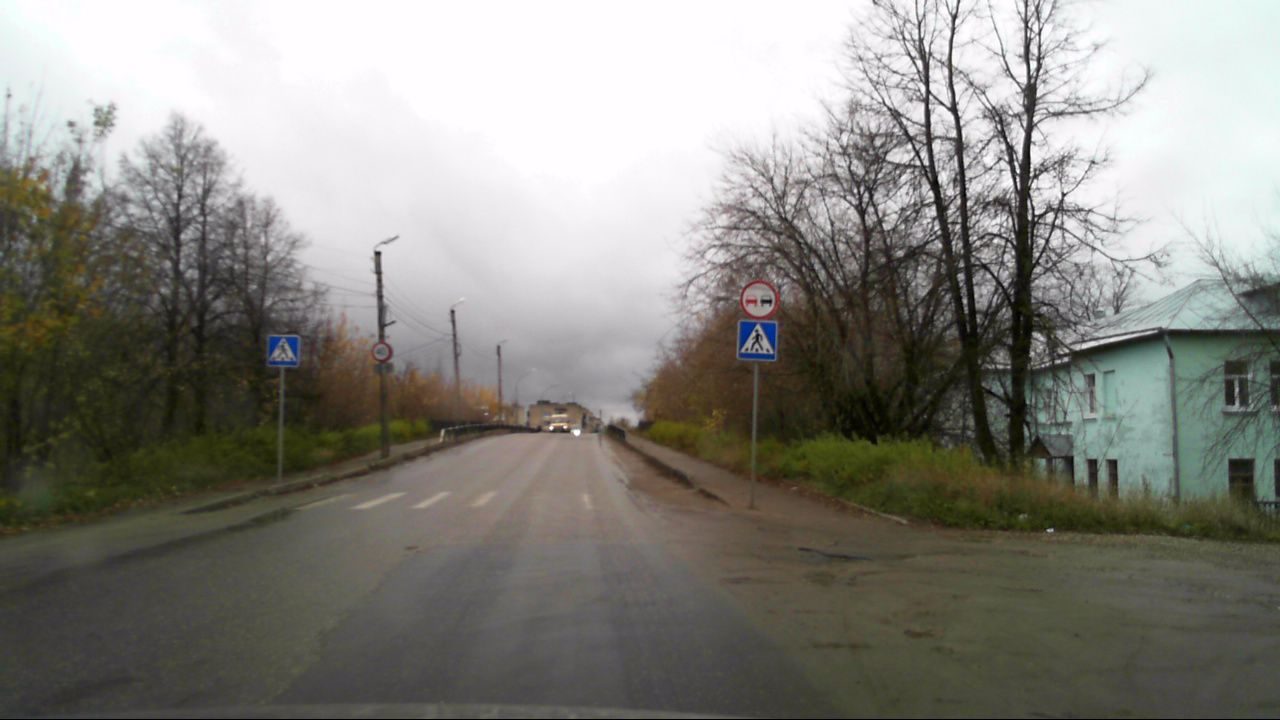speed_warning_40: (372, 341, 394, 361)
